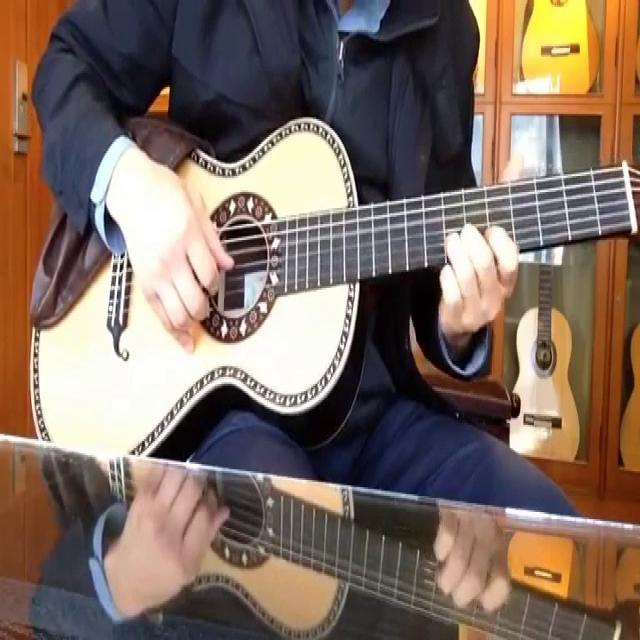Piano: (29, 99, 640, 461)
